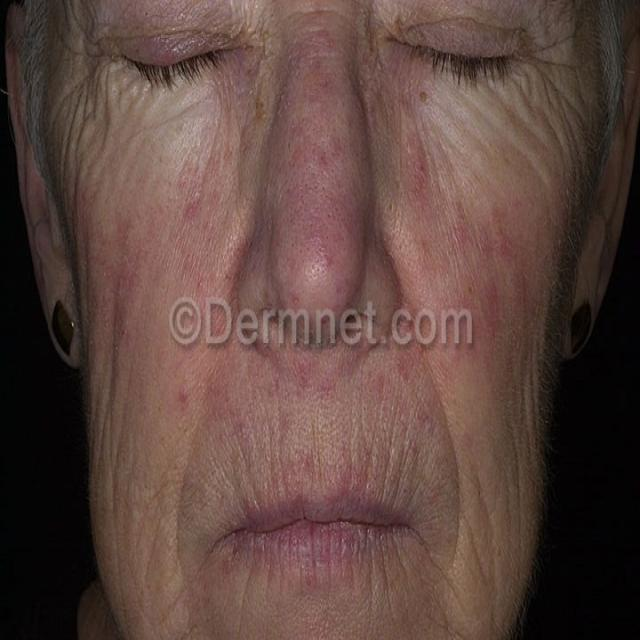Dry-Skin: (402, 355, 528, 633), (389, 51, 572, 227), (199, 396, 437, 516), (168, 523, 432, 622), (69, 78, 249, 221), (97, 326, 193, 547), (167, 0, 422, 68)
